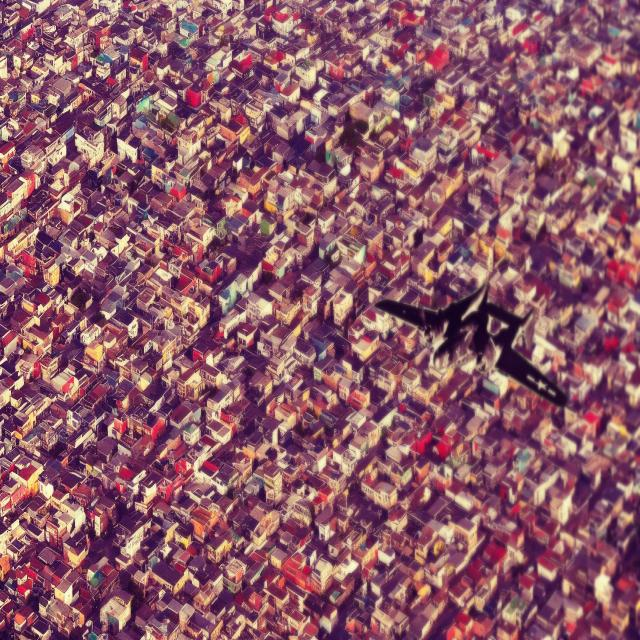airplane: (374, 278, 567, 408)
